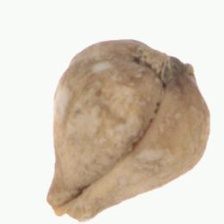L1: (133, 41, 198, 86), (45, 191, 91, 222)
L2: (44, 38, 211, 222)
